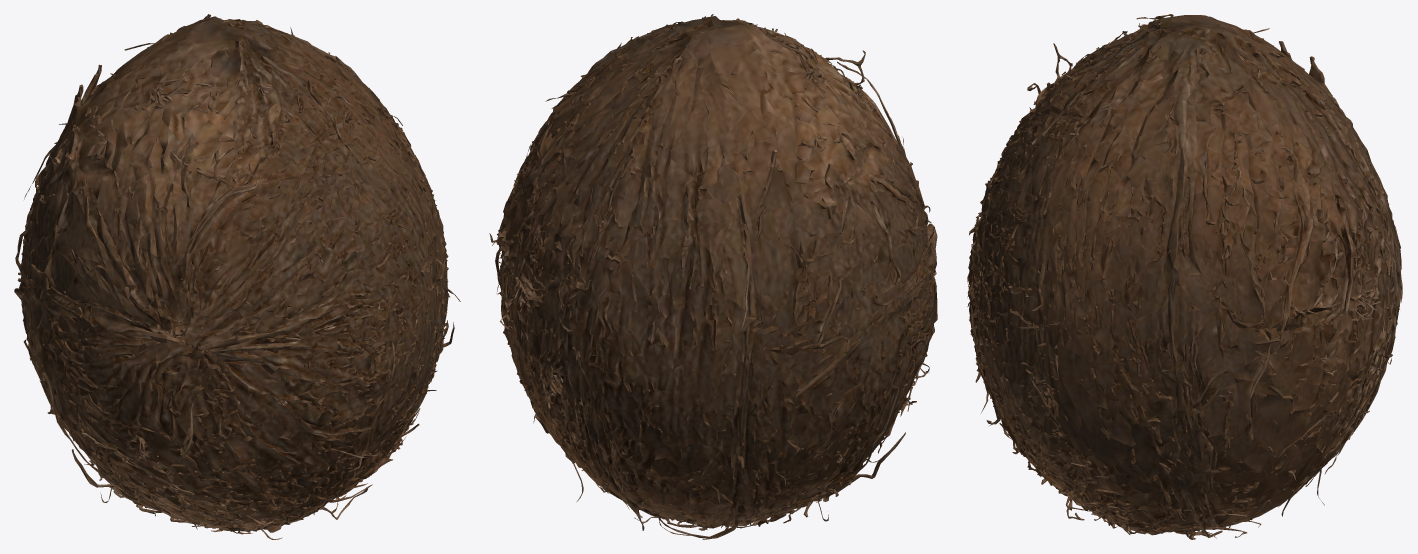
File: coconut.glb
3 views of the same model, side by side, from view 1: azimuth 30°, elevation 25°; view 2: azimuth 150°, elevation 25°; view 3: azimuth 270°, elevation 25° (orthographic).
Visible parts, largest first — view 1: coconut; view 2: coconut; view 3: coconut.
Boxes of the visible parts, box(x1,y1,x2,y2) form: coconut: box(14, 14, 460, 539); coconut: box(489, 14, 937, 539); coconut: box(967, 14, 1402, 539).
Bounding box in the file's own units: 1.53 × 1.89 × 1.51.
Materials: 1 (1 with a texture image).
